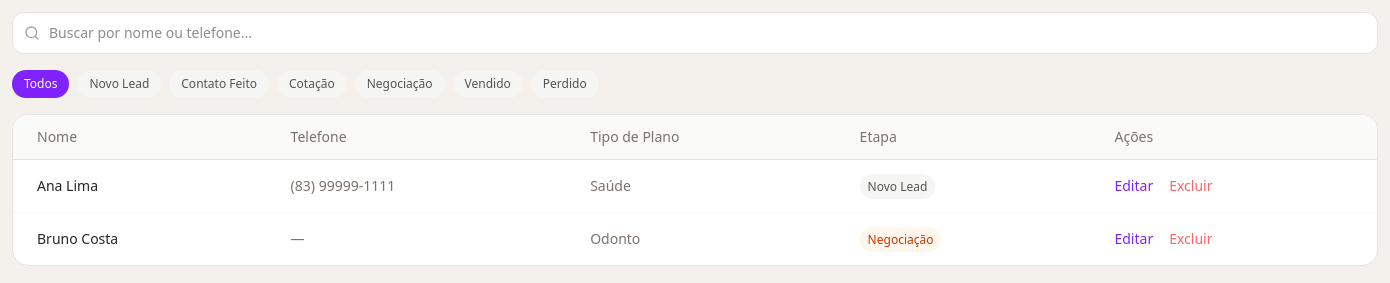
Test case: LeadTable › filters by pipeline stage
Click the button "Negociação" at (400, 84), box [355,70,445,98]
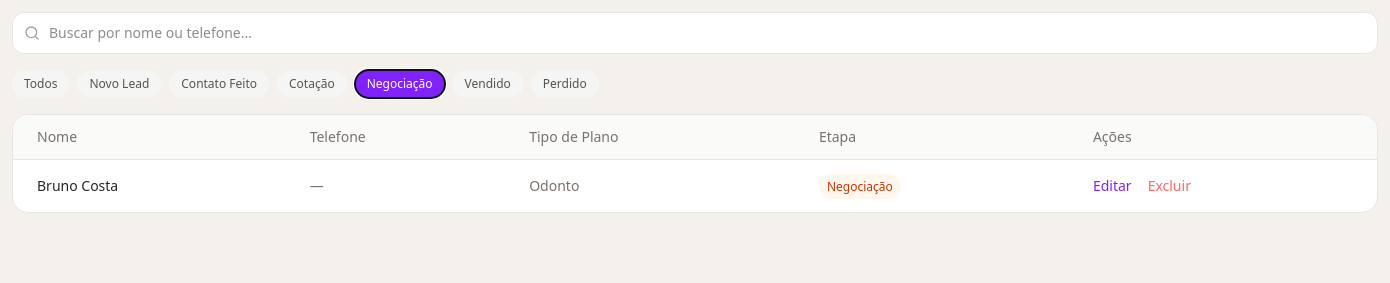
Check: the text "Bruno Costa" is shown, box [37,176,118,195]
Check: the text "Ana Lima" is gone
